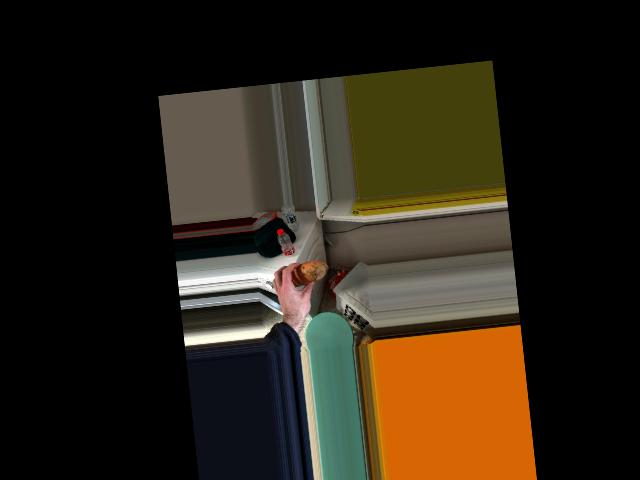sweet_potato: (286, 258, 320, 293)
